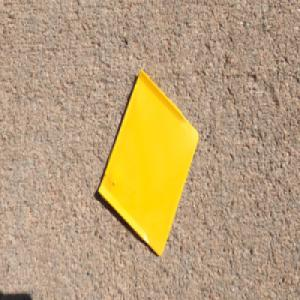PlasticPart: (97, 66, 200, 257)
